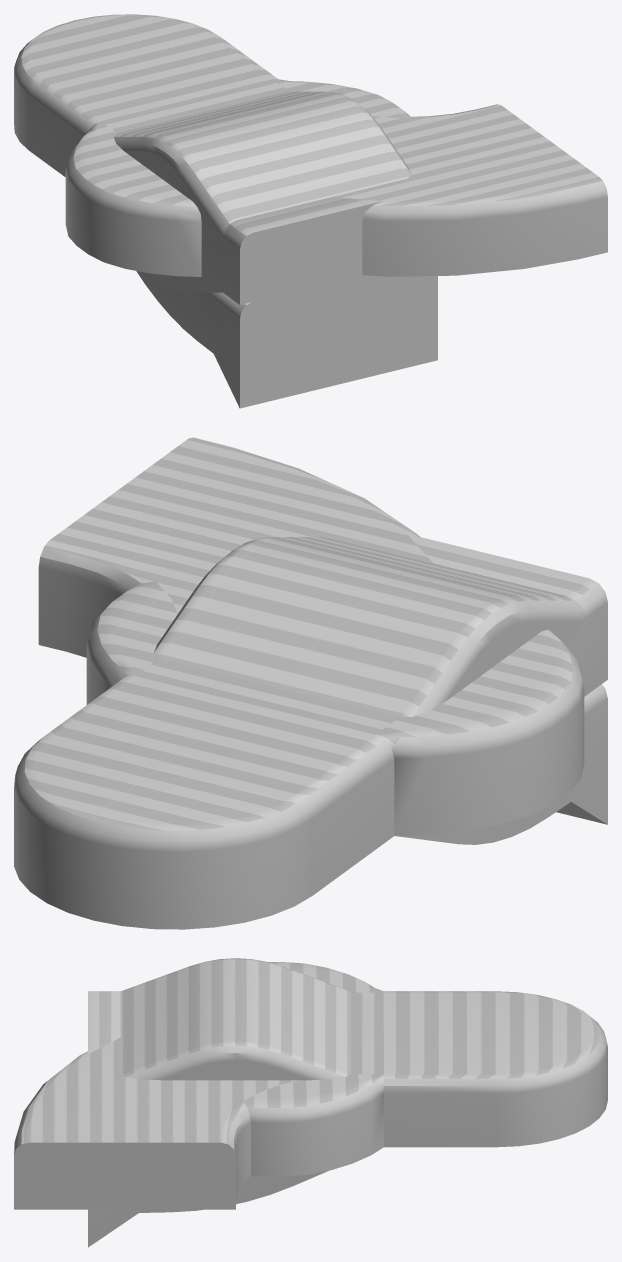
Rendered from Floor_2x3_SofterEdge_thick.fbx.
3 views of the same model, one above another, from view 1: azimuth 30°, elevation 25°; view 2: azimuth 150°, elevation 25°; view 3: azimuth 270°, elevation 25° (orthographic). The views are drawn at different scales.
Visible parts, largest first — view 1: Floor_2x3_SrE_T_rotate, Floor_2x3_SrE_T_hill, Floor_2x3_SrE_T_cap, Floor_2x3_SrE_T_ramp2, Floor_2x3_SrE_T_circle, Floor_2x3_SrE_T_ramp1, Floor_2x3_SrE_T_deep2, Floor_2x3_SrE_T_deep1; view 2: Floor_2x3_SrE_T_cap, Floor_2x3_SrE_T_hill, Floor_2x3_SrE_T_rotate, Floor_2x3_SrE_T_circle, Floor_2x3_SrE_T_deep2, Floor_2x3_SrE_T_ramp2, Floor_2x3_SrE_T_ramp1; view 3: Floor_2x3_SrE_T_rotate, Floor_2x3_SrE_T_cap, Floor_2x3_SrE_T_hill, Floor_2x3_SrE_T_circle, Floor_2x3_SrE_T_deep2, Floor_2x3_SrE_T_ramp2, Floor_2x3_SrE_T_ramp1.
Part boxes in pixels (x1,y1,x2,y2): Floor_2x3_SrE_T_rotate: [101, 79, 607, 276]; Floor_2x3_SrE_T_hill: [113, 91, 411, 301]; Floor_2x3_SrE_T_cap: [14, 14, 277, 176]; Floor_2x3_SrE_T_ramp2: [136, 271, 437, 373]; Floor_2x3_SrE_T_circle: [65, 79, 409, 276]; Floor_2x3_SrE_T_ramp1: [184, 292, 437, 408]; Floor_2x3_SrE_T_deep2: [108, 126, 382, 304]; Floor_2x3_SrE_T_deep1: [153, 204, 373, 303]; Floor_2x3_SrE_T_cap: [14, 676, 394, 929]; Floor_2x3_SrE_T_hill: [153, 537, 586, 717]; Floor_2x3_SrE_T_rotate: [38, 437, 432, 734]; Floor_2x3_SrE_T_circle: [86, 581, 584, 835]; Floor_2x3_SrE_T_deep2: [382, 534, 607, 729]; Floor_2x3_SrE_T_ramp2: [395, 684, 607, 844]; Floor_2x3_SrE_T_ramp1: [397, 718, 607, 824]; Floor_2x3_SrE_T_rotate: [14, 992, 383, 1209]; Floor_2x3_SrE_T_cap: [384, 991, 607, 1147]; Floor_2x3_SrE_T_hill: [120, 958, 351, 1080]; Floor_2x3_SrE_T_circle: [243, 962, 383, 1176]; Floor_2x3_SrE_T_deep2: [88, 991, 356, 1053]; Floor_2x3_SrE_T_ramp2: [139, 1170, 328, 1212]; Floor_2x3_SrE_T_ramp1: [88, 1209, 143, 1247].
Size of the model in its own units: 594 by 299 by 803.
